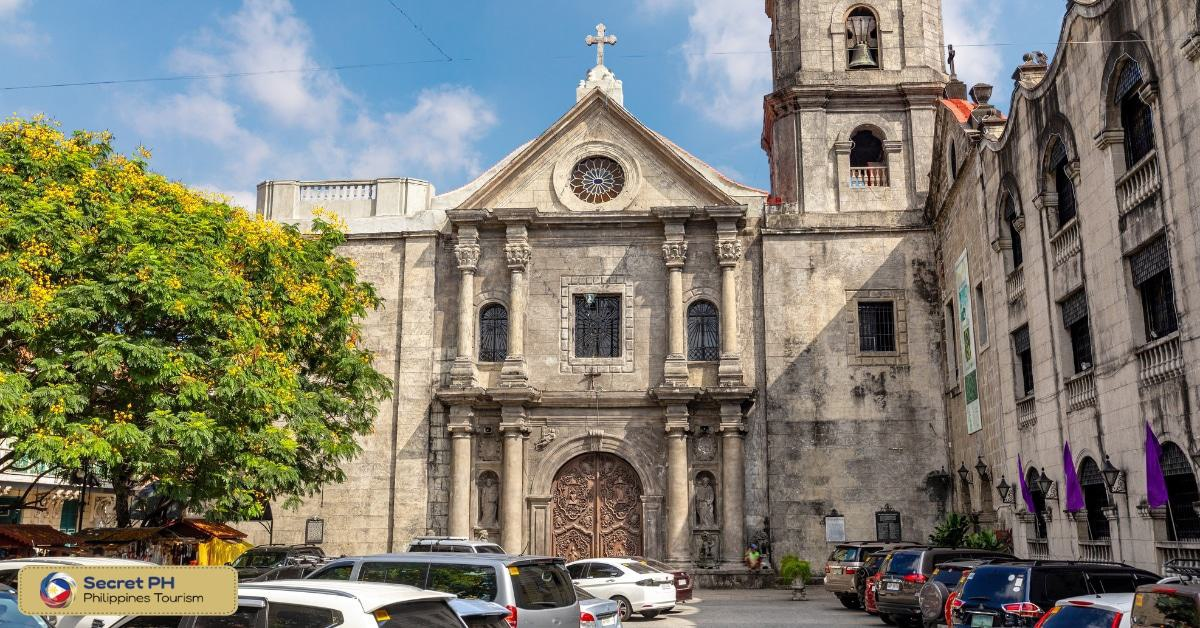san_agustin_church_intramuros_manila: (425, 2, 976, 583)
